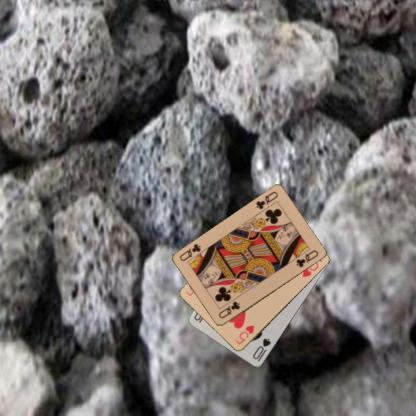10s: (250, 336, 272, 361)
5h: (233, 322, 255, 346)
Qc: (253, 189, 279, 211), (216, 299, 241, 320)
